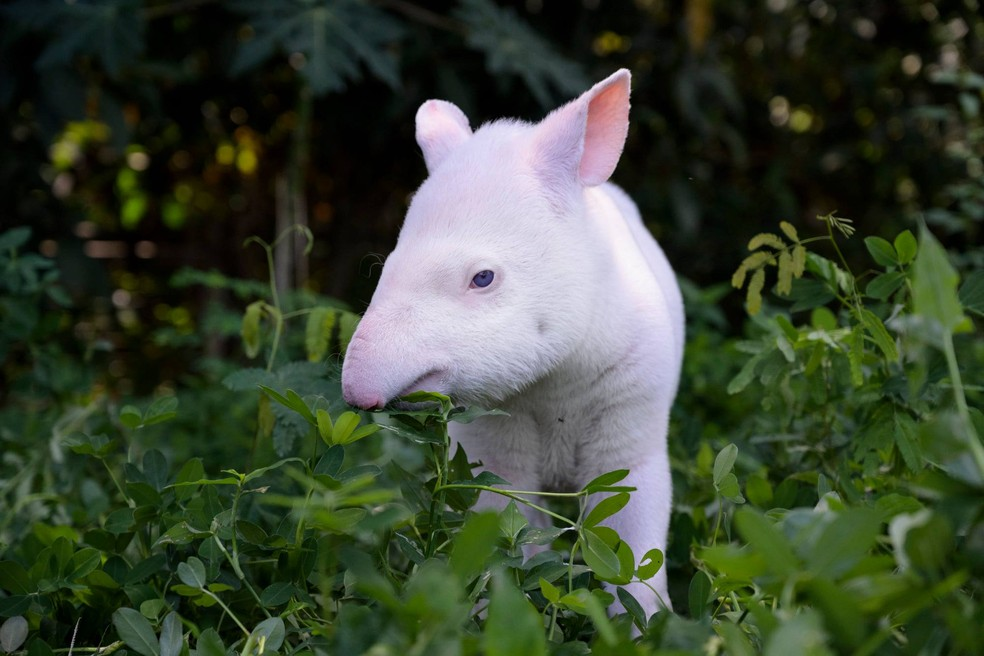Anta: (331, 56, 728, 604)
